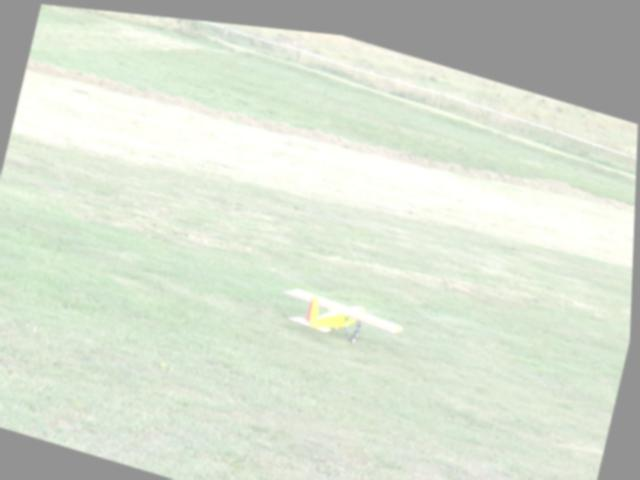plane: (277, 273, 408, 348)
